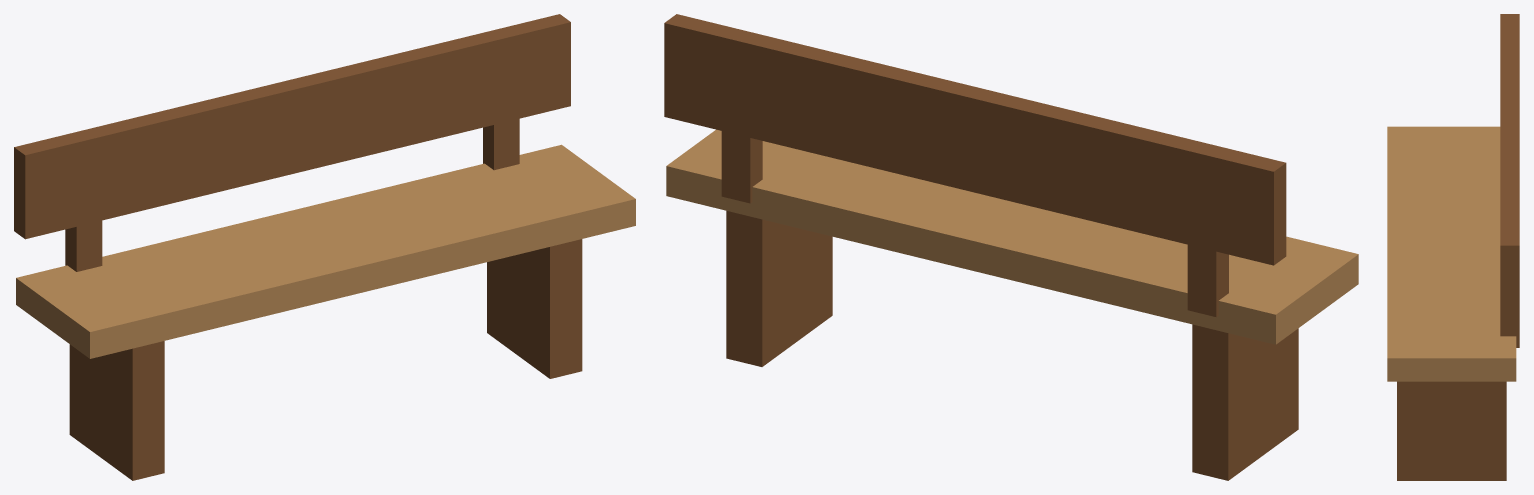
The model's file is Dorf_Bank.fbx.
3 renders of one model, left to right at view 1: azimuth 30°, elevation 25°; view 2: azimuth 150°, elevation 25°; view 3: azimuth 270°, elevation 25°, orthographic. The views are drawn at different scales.
Visible parts, largest first — view 1: Dorf_Bank; view 2: Dorf_Bank; view 3: Dorf_Bank.
Boxes of the visible parts, box(x1,y1,x2,y2) form: Dorf_Bank: box(14, 14, 635, 480); Dorf_Bank: box(664, 14, 1358, 480); Dorf_Bank: box(1387, 14, 1519, 480).
Bounding box in the file's own units: 1.7 × 0.875 × 0.41.
